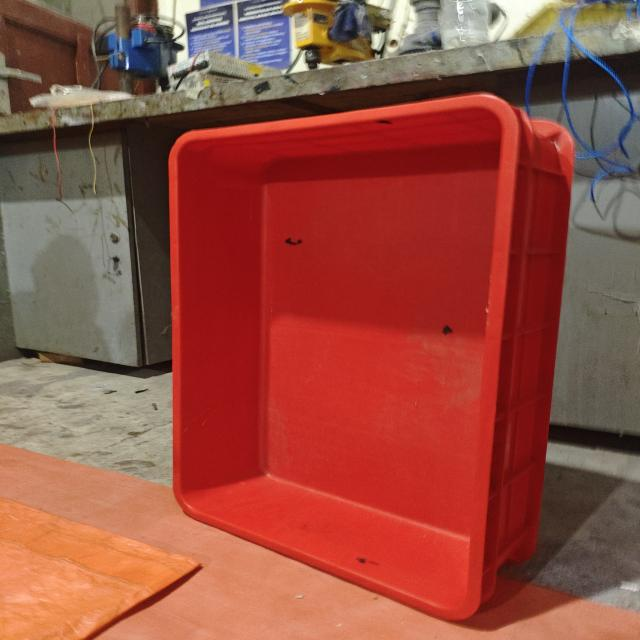red plastic box: (168, 92, 574, 624)
